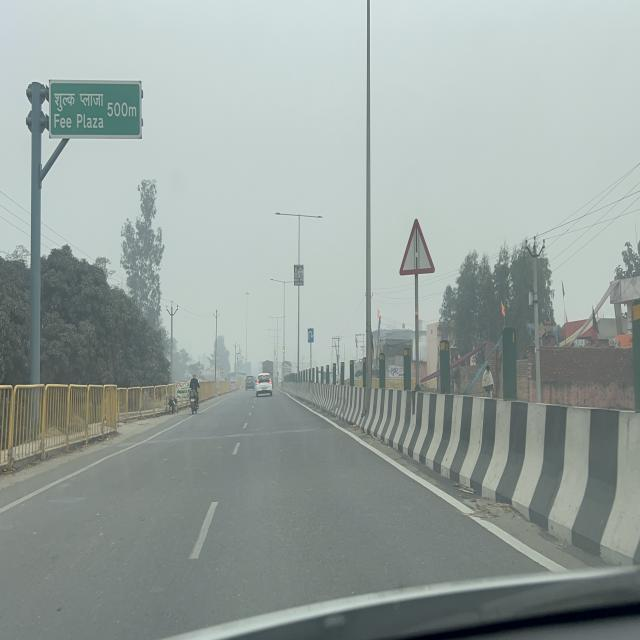GAP_IN_MEDIAN: (399, 217, 435, 277)
GENERAL: (49, 78, 142, 140)
SIDE_ROAD_LEFT: (220, 365, 224, 373)
U_TURN: (308, 328, 314, 342)
